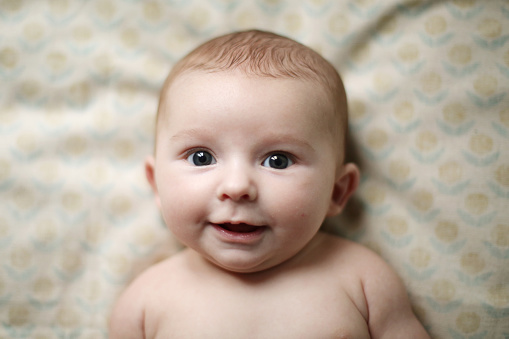deitado: (66, 30, 451, 339)
